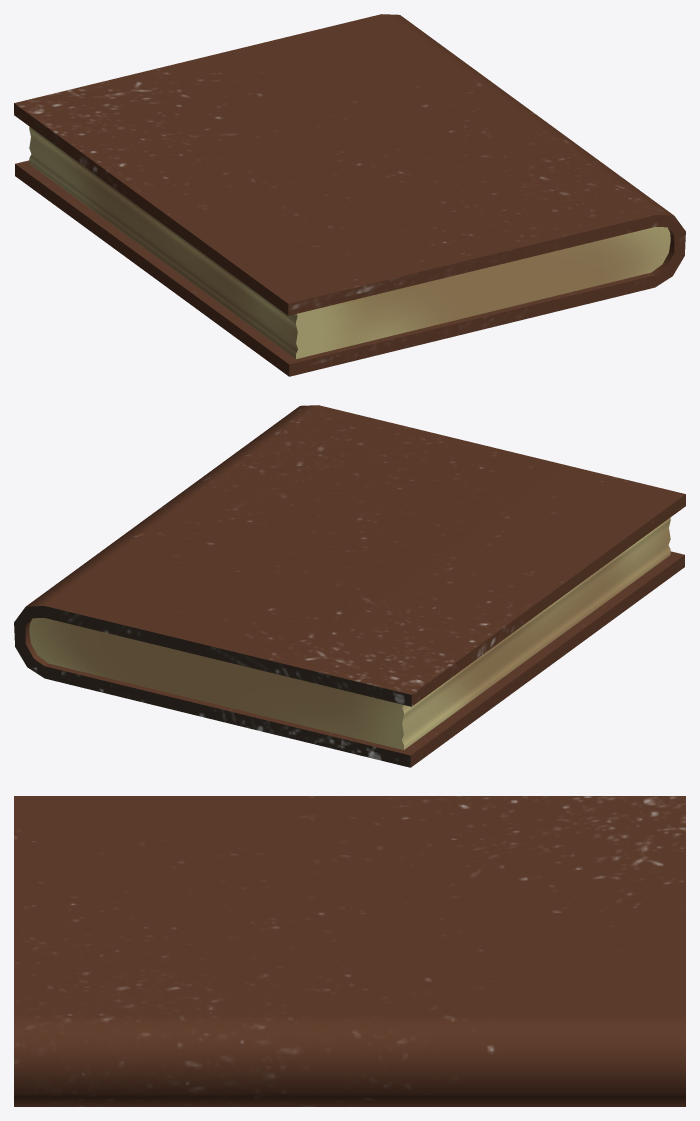
File: book2.fbx
The picture shows the model from 3 angles, top to bottom: view 1: azimuth 30°, elevation 25°; view 2: azimuth 150°, elevation 25°; view 3: azimuth 270°, elevation 25°; orthographic projection. The views are drawn at different scales.
Parts seen in each view (by area): view 1: pCube29, pCube30; view 2: pCube29, pCube30; view 3: pCube29.
Part boxes in pixels (x1,y1,x2,y2): pCube29: (14, 14, 685, 376); pCube30: (29, 126, 670, 358); pCube29: (14, 405, 685, 767); pCube30: (29, 517, 670, 749); pCube29: (14, 796, 685, 1106).
Bounding box in the file's own units: 12.51 × 2.2 × 14.93.
1 material, 1 textured.
